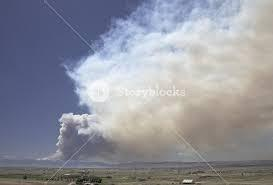yanwu: (41, 1, 273, 166)
